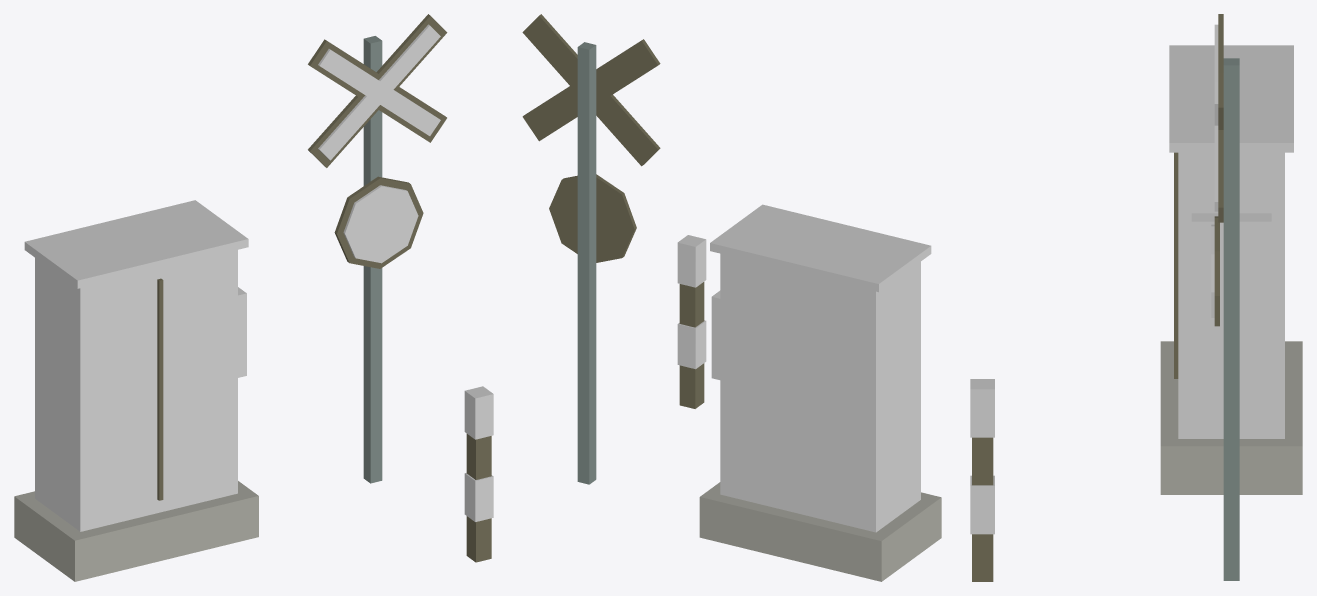
The model's file is SM_ArmarioAdif_v0_Completo_LOD0.fbx.
3 renders of one model, left to right at view 1: azimuth 30°, elevation 25°; view 2: azimuth 150°, elevation 25°; view 3: azimuth 270°, elevation 25°, orthographic. The views are drawn at different scales.
Parts seen in each view (by area): view 1: SM_sagunto_vivo_v10_LOD0; view 2: SM_sagunto_vivo_v10_LOD0; view 3: SM_sagunto_vivo_v10_LOD0.
Part boxes in pixels (x1=…): SM_sagunto_vivo_v10_LOD0: x1=14, y1=14, x2=493, y2=581; SM_sagunto_vivo_v10_LOD0: x1=522, y1=14, x2=941, y2=581; SM_sagunto_vivo_v10_LOD0: x1=970, y1=14, x2=1302, y2=581.
Size of the model in its own units: 3.02 by 3.31 by 1.87.
